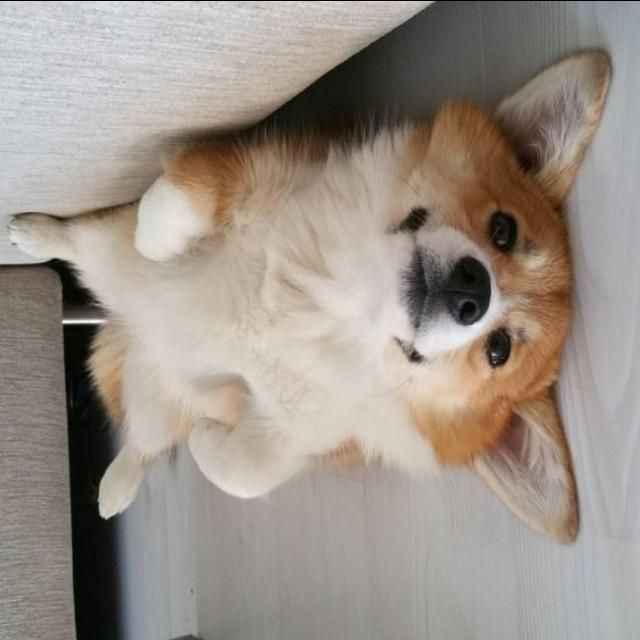Dogs: (8, 38, 614, 546)
